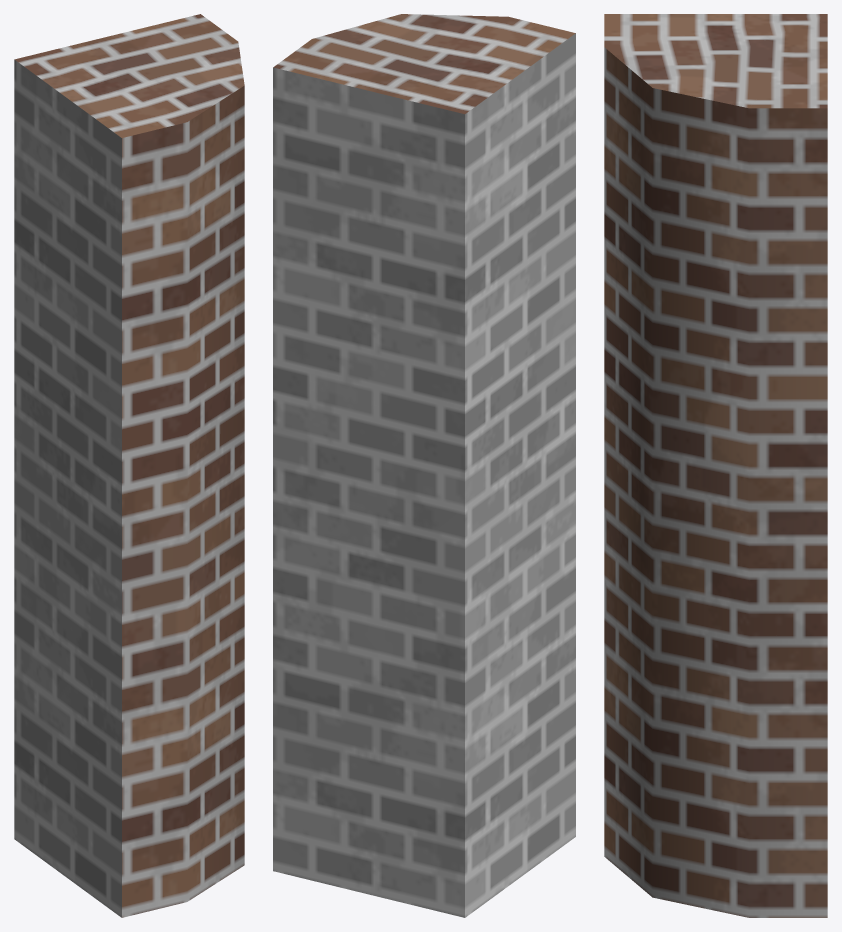
Rendered from Corner_Wall_008.FBX.
3 views of the same model, side by side, from view 1: azimuth 30°, elevation 25°; view 2: azimuth 150°, elevation 25°; view 3: azimuth 270°, elevation 25° (orthographic). The views are drawn at different scales.
Parts seen in each view (by area): view 1: Corner_Wall_008; view 2: Corner_Wall_008; view 3: Corner_Wall_008.
Part boxes in pixels (x1=…): Corner_Wall_008: x1=14, y1=14, x2=244, y2=917; Corner_Wall_008: x1=273, y1=14, x2=575, y2=917; Corner_Wall_008: x1=604, y1=14, x2=827, y2=917.
Bounding box in the file's own units: 75 × 75 × 300.
